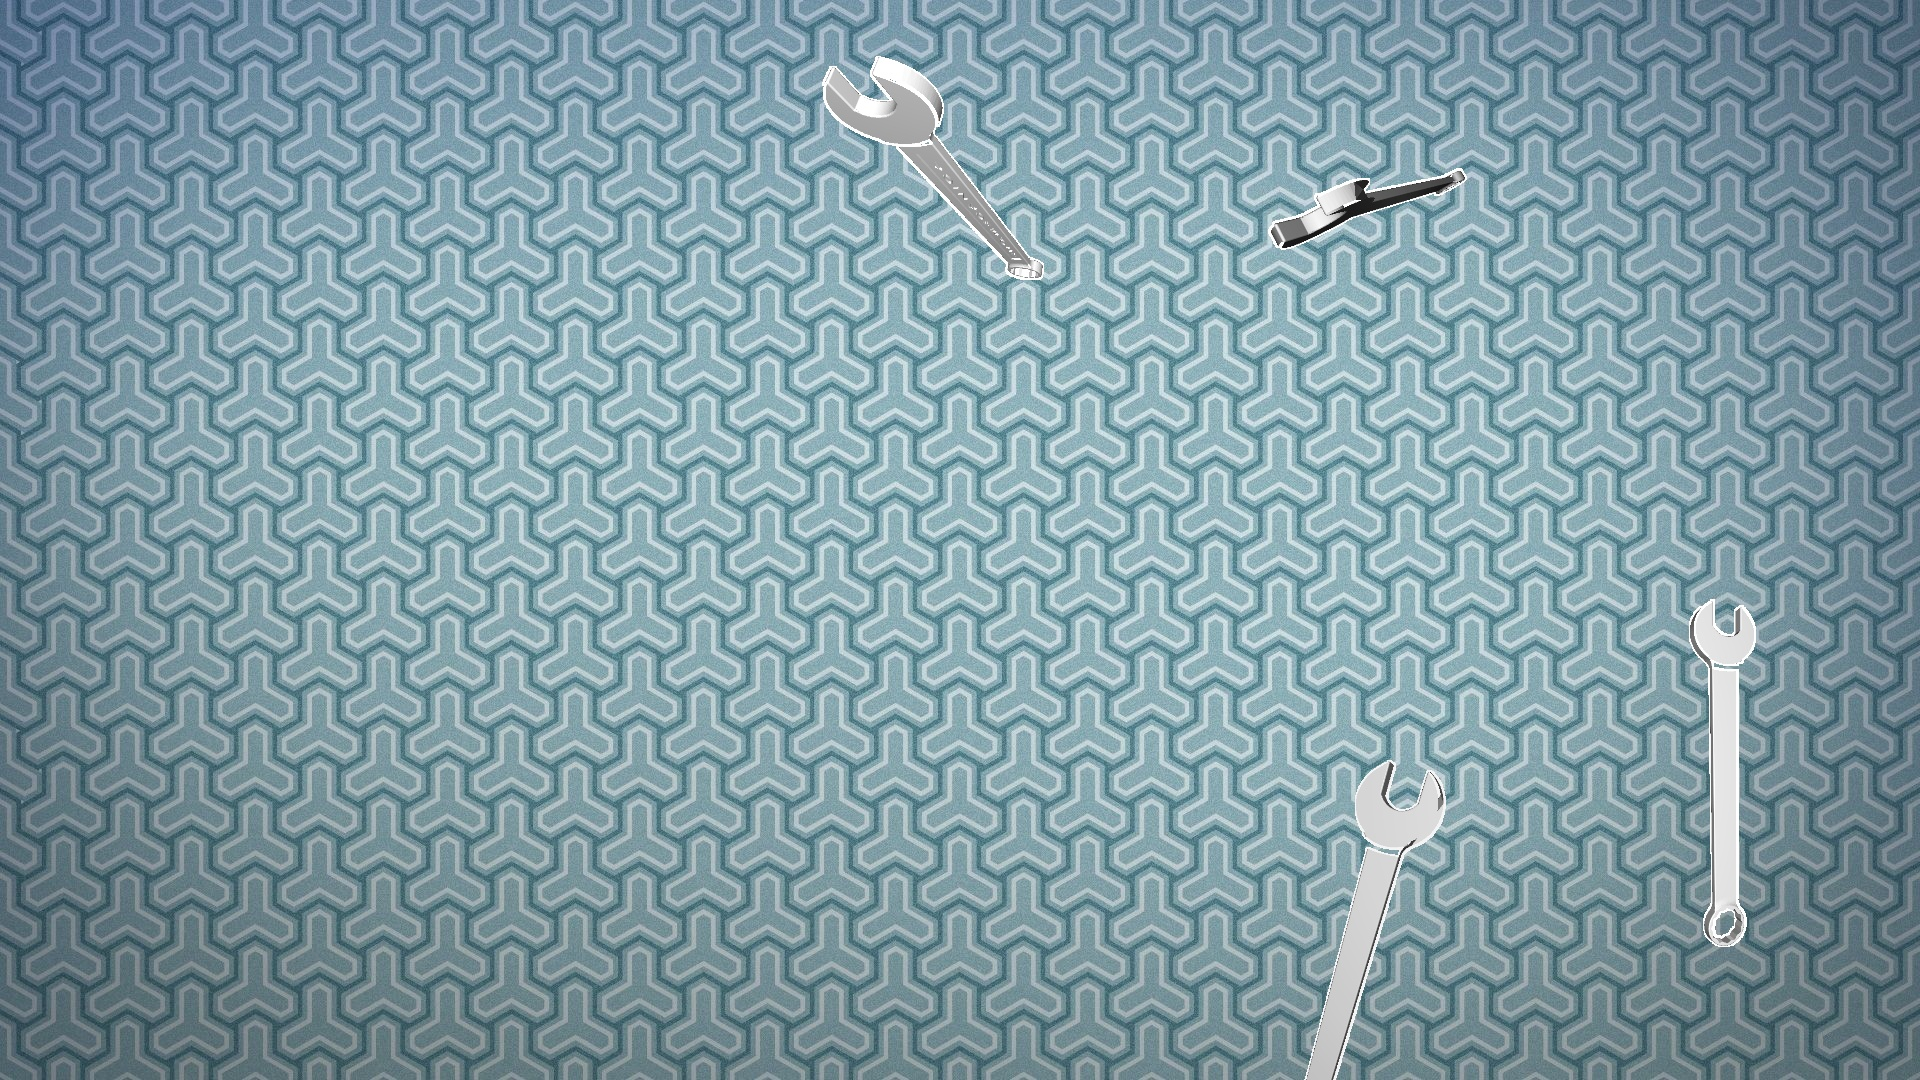Mixed Key: (822, 55, 1043, 280), (1304, 760, 1445, 1079), (1689, 599, 1755, 945), (1269, 167, 1466, 249)
